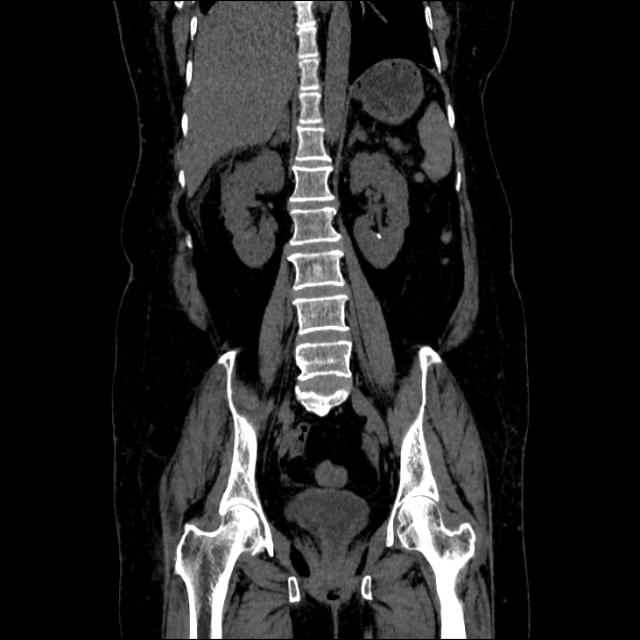kidneystone: (375, 233, 381, 239)
